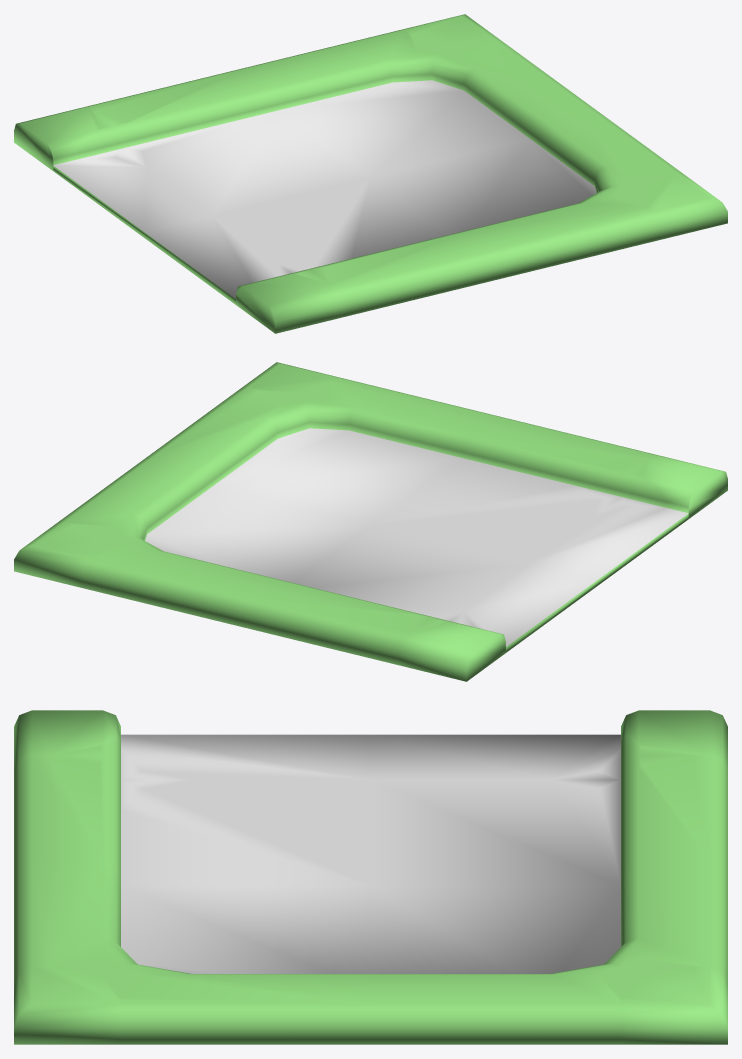
File: Onece.fbx
The picture shows the model from 3 angles, top to bottom: view 1: azimuth 30°, elevation 25°; view 2: azimuth 150°, elevation 25°; view 3: azimuth 270°, elevation 25°; orthographic projection. The views are drawn at different scales.
Visible parts, largest first — view 1: 立方体.002; view 2: 立方体.002; view 3: 立方体.002.
Boxes of the visible parts, box(x1,y1,x2,y2) form: 立方体.002: box(14, 14, 727, 333); 立方体.002: box(14, 362, 727, 681); 立方体.002: box(14, 710, 727, 1044).
Bounding box in the file's own units: 200 × 10 × 200.
